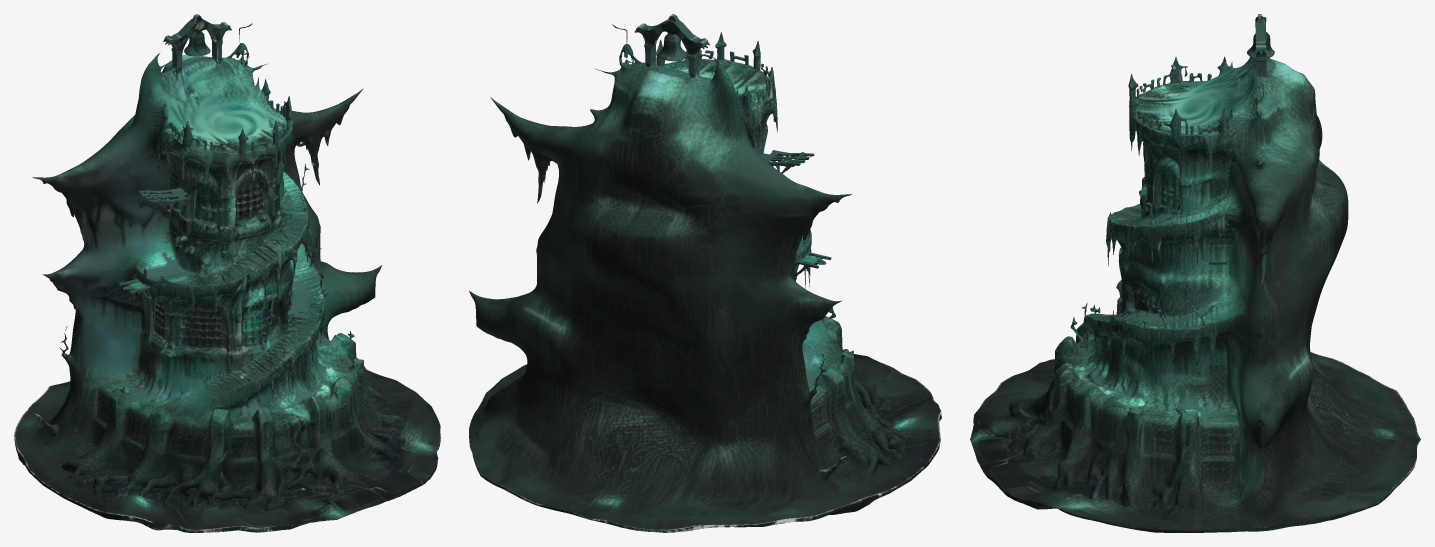
Rendered from duskmire.glb.
3 renders of one model, left to right at view 1: azimuth 30°, elevation 25°; view 2: azimuth 150°, elevation 25°; view 3: azimuth 270°, elevation 25°, orthographic. The views are drawn at different scales.
Visible parts, largest first — view 1: model; view 2: model; view 3: model.
Boxes of the visible parts, left/top/right/bottom form: model: left=14, top=14, right=440, bottom=532; model: left=469, top=14, right=941, bottom=532; model: left=970, top=14, right=1420, bottom=532.
Size of the model in its own units: 1.79 by 1.9 by 1.79.
1 material, 1 textured.
